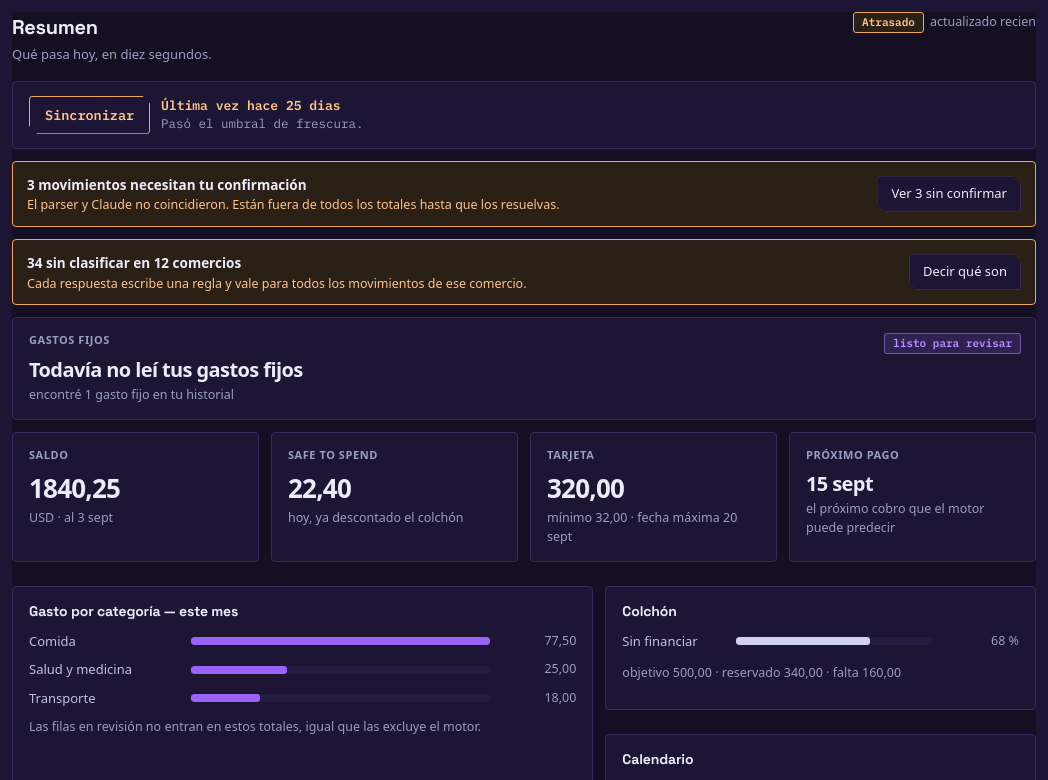
Test: el sync vive adentro del chip › un 409 se dibuja como falla y no se reintenta solo
Step 1. Click the button with test id "sync-button-accion" → (90, 115), box [29,96,150,134]
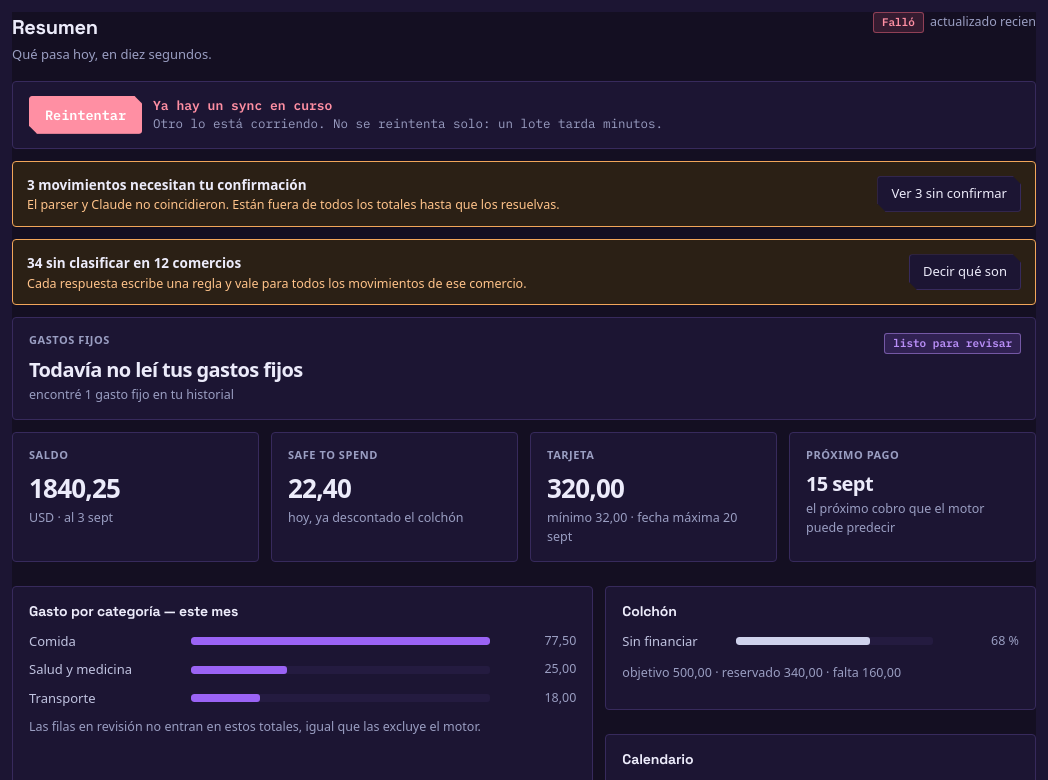
Check: the text with test id "sync-button-titulo" reads "Ya hay un sync en curso", box [153,97,332,114]
